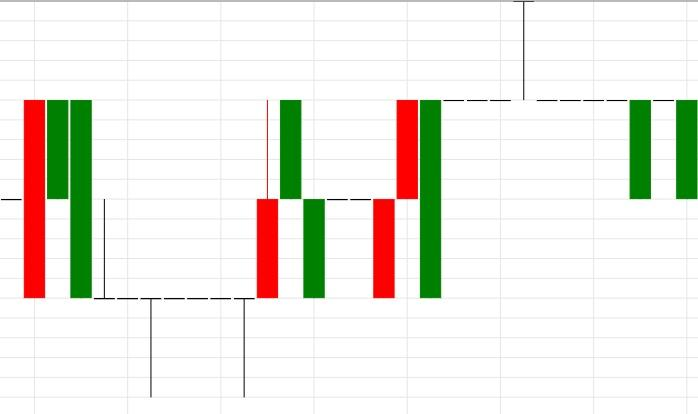bearish_engulfing_fall: (303, 99, 442, 298)
